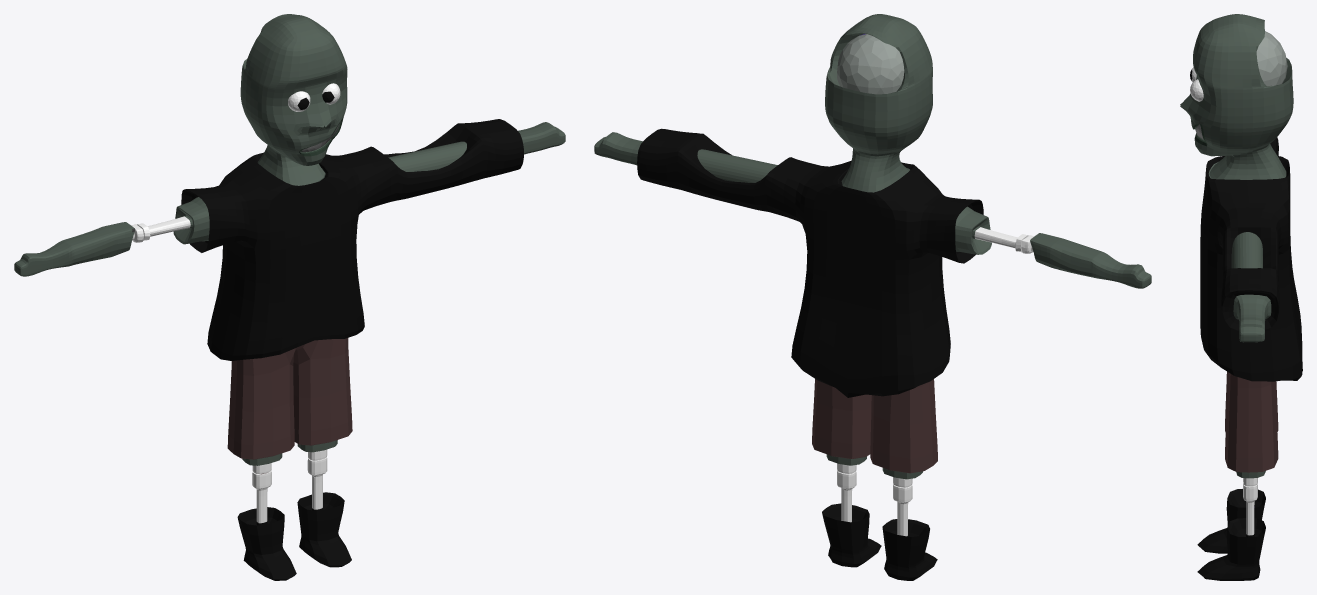
The model's file is zombie_V2.fbx.
The picture shows the model from 3 angles, left to right: view 1: azimuth 30°, elevation 25°; view 2: azimuth 150°, elevation 25°; view 3: azimuth 270°, elevation 25°; orthographic projection.
Visible parts, largest first — view 1: zombie; view 2: zombie; view 3: zombie.
Part boxes in pixels (left/top/right/bottom): zombie: left=14, top=14, right=565, bottom=580; zombie: left=594, top=14, right=1151, bottom=580; zombie: left=1180, top=14, right=1302, bottom=580.
Size of the model in its own units: 215 by 205 by 41.98.
Materials: 1 (1 with a texture image).
